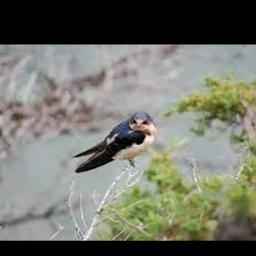Swallow: (72, 111, 156, 172)
